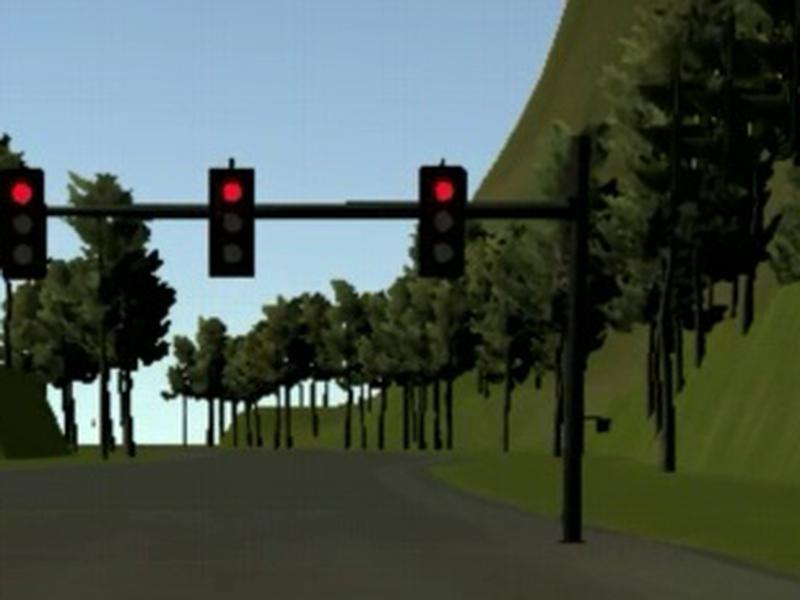Red: (419, 164, 465, 277), (208, 168, 254, 277), (1, 167, 45, 277)
